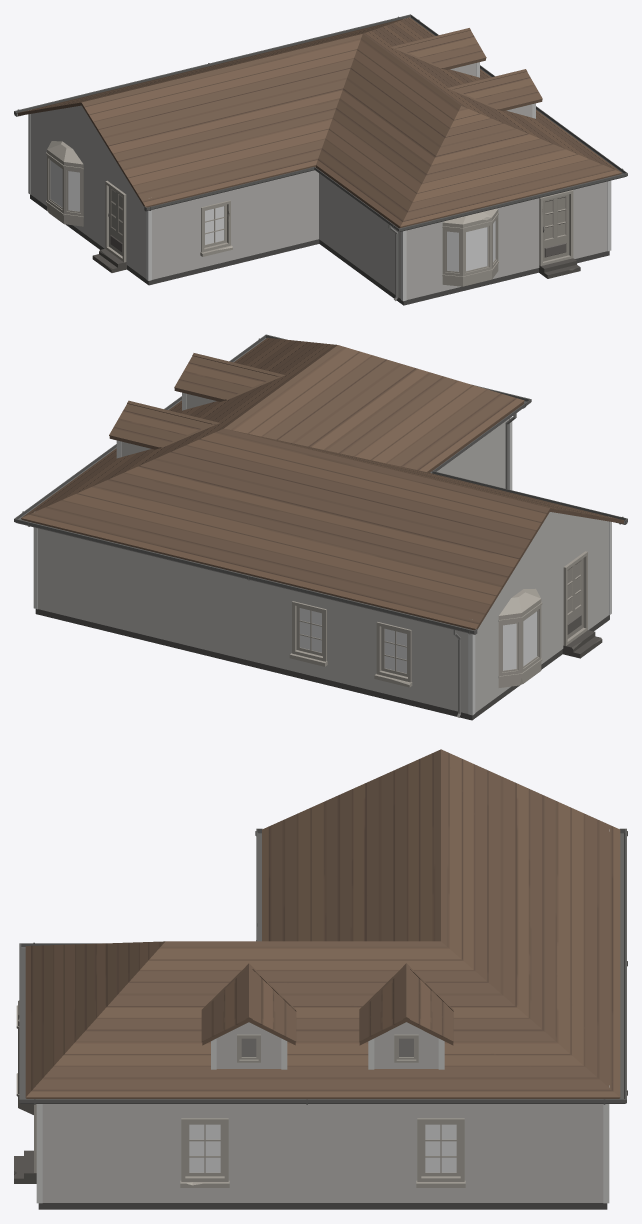
File: SM_Bldg_Suburb_House_05.fbx
3 views of the same model, one above another, from view 1: azimuth 30°, elevation 25°; view 2: azimuth 150°, elevation 25°; view 3: azimuth 270°, elevation 25° (orthographic). The views are drawn at different scales.
Visible parts, largest first — view 1: SM_Bldg_Suburb_House_05, SM_Bldg_Suburb_House_05_Glass; view 2: SM_Bldg_Suburb_House_05, SM_Bldg_Suburb_House_05_Glass; view 3: SM_Bldg_Suburb_House_05, SM_Bldg_Suburb_House_05_Glass.
Part boxes in pixels (<box>): SM_Bldg_Suburb_House_05: <box>14,14,627,305</box>; SM_Bldg_Suburb_House_05_Glass: <box>50,160,495,271</box>; SM_Bldg_Suburb_House_05: <box>14,334,627,720</box>; SM_Bldg_Suburb_House_05_Glass: <box>300,608,537,673</box>; SM_Bldg_Suburb_House_05: <box>14,749,627,1209</box>; SM_Bldg_Suburb_House_05_Glass: <box>189,1124,456,1172</box>.
Bounding box in the file's own units: 1657 × 555 × 1560.
